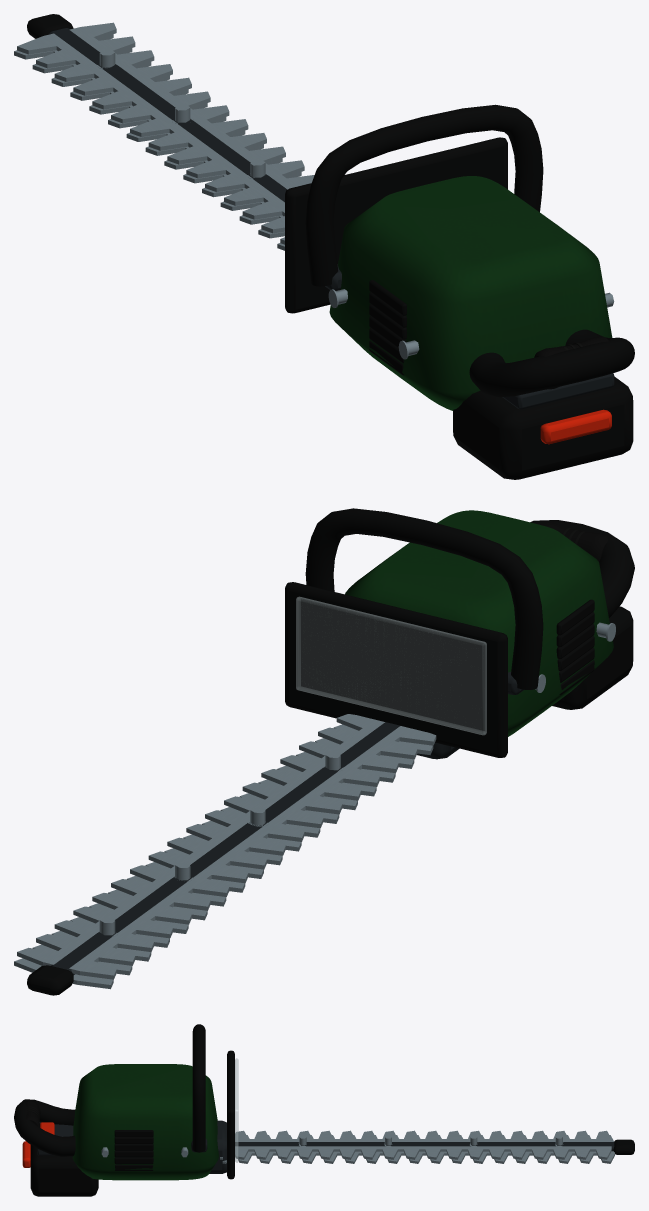
The model's file is CordlessHedgeTrimmer.gltf.
The picture shows the model from 3 angles, top to bottom: view 1: azimuth 30°, elevation 25°; view 2: azimuth 150°, elevation 25°; view 3: azimuth 270°, elevation 25°; orthographic projection. The views are drawn at different scales.
Parts seen in each view (by area): view 1: CordlessHedgeTrimmer__Body; view 2: CordlessHedgeTrimmer__Body, CordlessHedgeTrimmer__Glass_HandGuard; view 3: CordlessHedgeTrimmer__Body, CordlessHedgeTrimmer__Glass_HandGuard.
Part boxes in pixels (<box>): CordlessHedgeTrimmer__Body: <box>14,14,634,479</box>; CordlessHedgeTrimmer__Body: <box>14,508,634,995</box>; CordlessHedgeTrimmer__Glass_HandGuard: <box>296,596,486,735</box>; CordlessHedgeTrimmer__Body: <box>14,1024,634,1196</box>; CordlessHedgeTrimmer__Glass_HandGuard: <box>235,1058,238,1162</box>.
Size of the model in its own units: 0.308 by 0.308 by 1.24.
2 materials, 1 textured.
